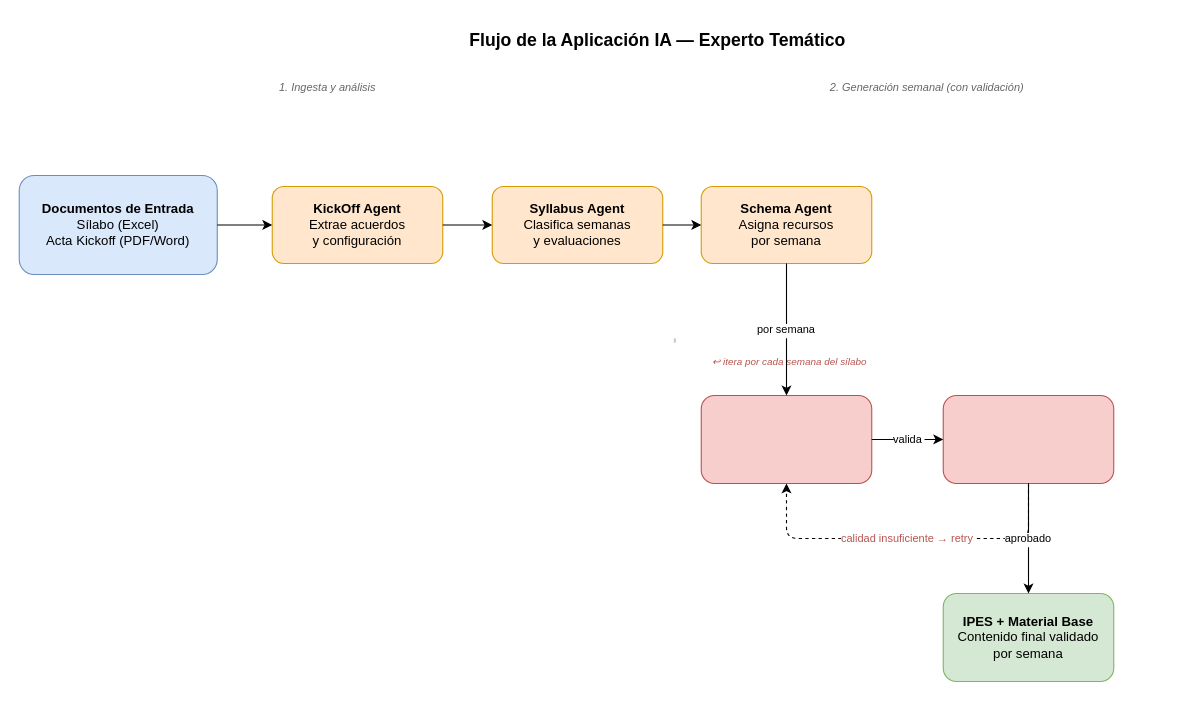
This 1183x701 diagram has some shape labels left out. The shapes that lost their labels are listed below. From the top down, each one's box as (x1, y1, x2, y2) in pixels, then its label:
(700, 394, 872, 483): IPES Agent Genera planificación instruccional
(942, 394, 1114, 483): Check IPES Agent Valida calidad del IPES
